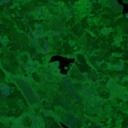alloviz: (48, 53, 76, 75), (114, 1, 128, 16)
